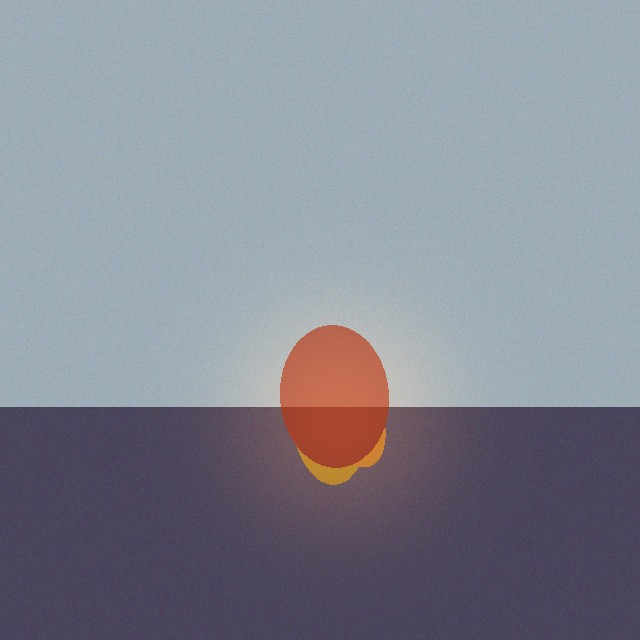fire: (273, 358, 405, 478)
